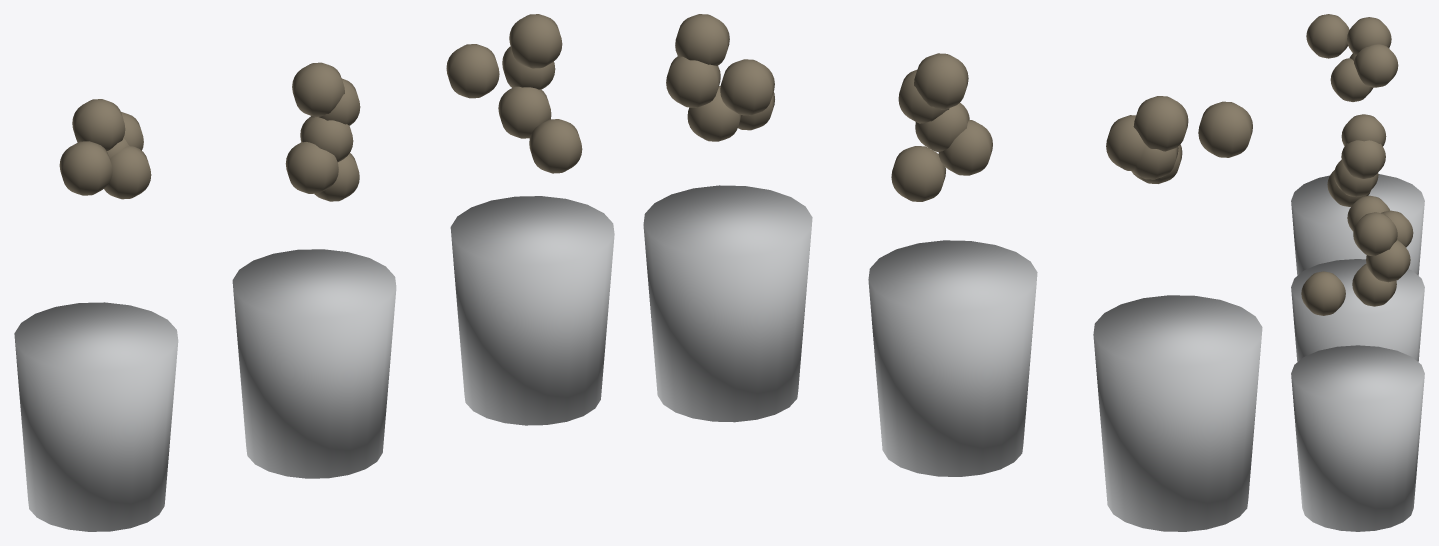
Rendered from flower_buckets.glb.
3 renders of one model, left to right at view 1: azimuth 30°, elevation 25°; view 2: azimuth 150°, elevation 25°; view 3: azimuth 270°, elevation 25°, orthographic. The views are drawn at different scales.
Visible parts, largest first — view 1: metal, dead_plant; view 2: metal, dead_plant; view 3: metal, dead_plant.
Part boxes in pixels (x1,y1,x2,y2): metal: (14,196,614,531); dead_plant: (59,14,582,201); metal: (643,185,1262,531); dead_plant: (666,14,1252,201); metal: (1291,174,1424,531); dead_plant: (1301,14,1413,315).
Bounding box in the file's own units: 1.46 × 0.9502 × 0.36.
